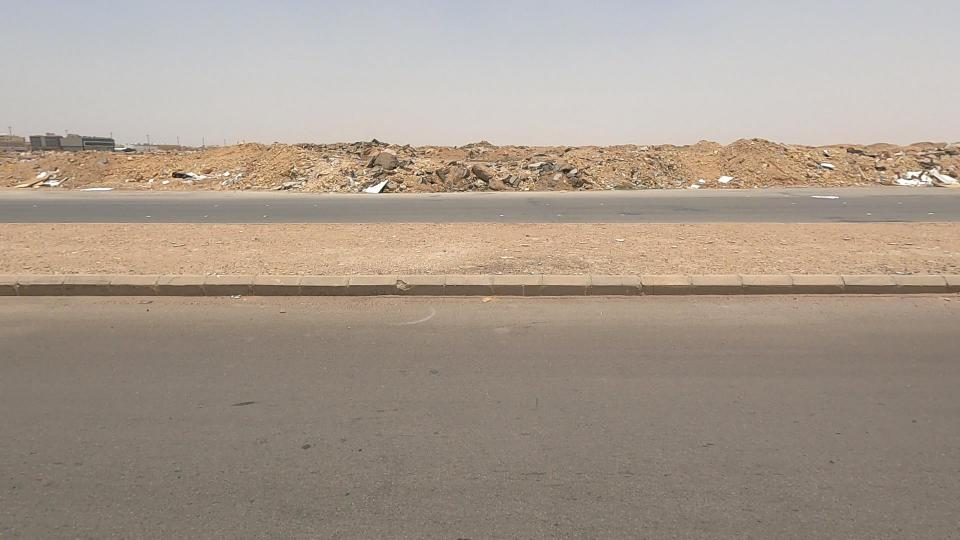GARBAGE: (841, 146, 960, 210), (0, 146, 107, 215), (125, 151, 266, 201), (646, 161, 770, 211), (315, 162, 425, 202), (65, 169, 136, 207)
